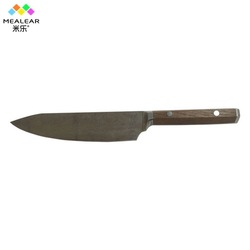knief: (6, 99, 241, 143)
